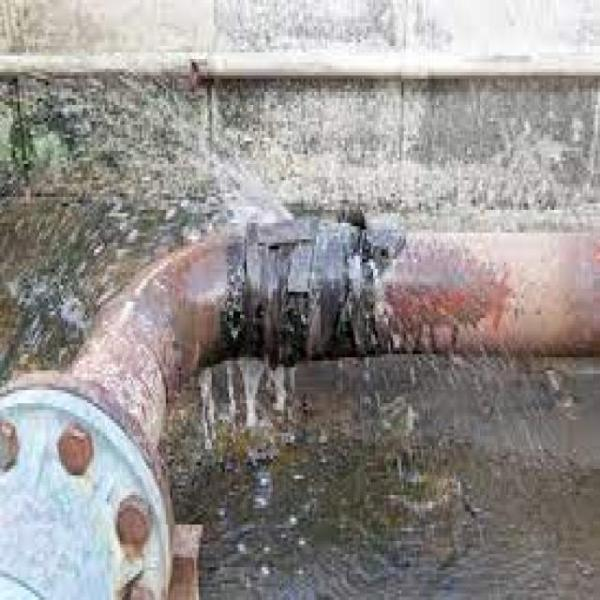pipe burst: (12, 80, 368, 435)
water accumulation: (174, 357, 600, 600)
